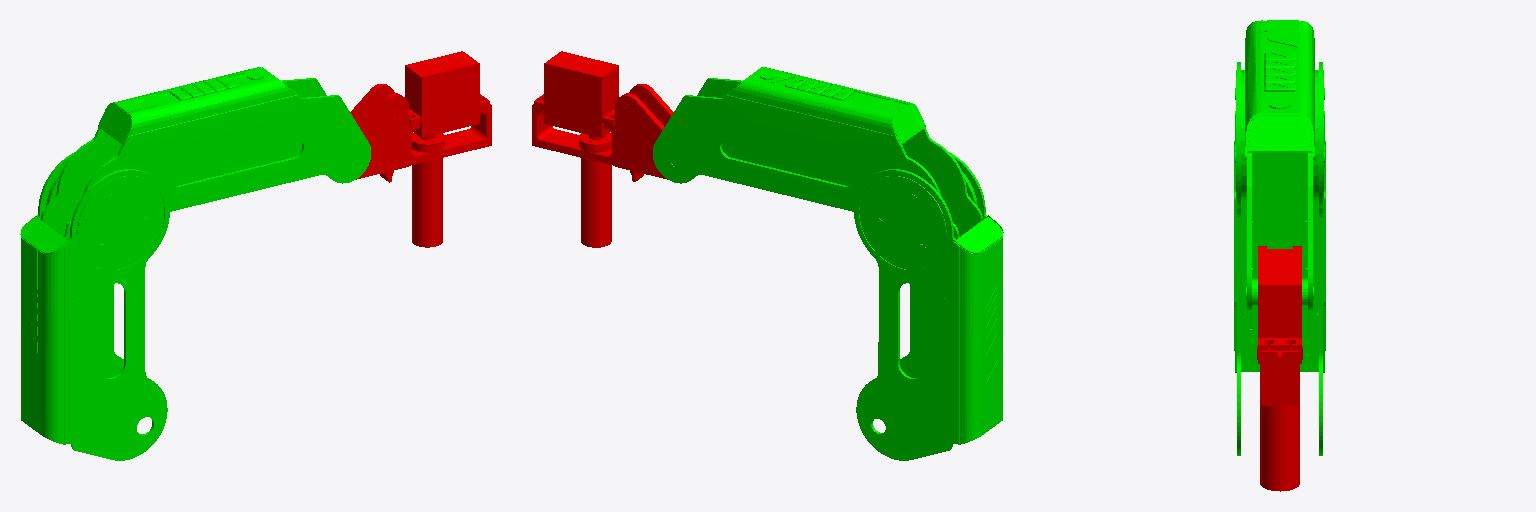
The robot description file, URDF, robot "magician":
<?xml version="1.0" ?>
<robot name="magician" xmlns:xi="http://www.w3.org/2001/XInclude">

  <material name="Red">
    <color rgba="1 0 0 1"/>
  </material>
  <material name="Green">
    <color rgba="0 1 0 1"/>
  </material>
  <material name="Blue">
    <color rgba="0 0 1 1"/>
  </material>
  <material name="Orange">
    <color rgba="1 0.6 0.0 1"/>
  </material>

  <link name="magician_root_link"/>
  <link name="magician_base_link">
    <visual>
      <origin rpy="0 0 0" xyz="0 0 0"/>
      <geometry>
        <mesh filename="package://dobot_kinematics/meshes/collision/core/magicianBase.dae"/>
      </geometry>
       <material name="Orange"/>
    </visual>
    <collision>
      <origin rpy="0 0 0" xyz="0 0 0"/>
      <geometry>
        <mesh filename="package://dobot_kinematics/meshes/collision/core/magicianBase.dae"/>
      </geometry>
      <material name="Orange"/>
    </collision>
  </link>
  <joint name="magician_joint_base" type="fixed">
    <parent link="magician_root_link"/>
    <child link="magician_base_link"/>
    <axis xyz="0 0 0"/>
    <limit effort="2000" lower="0" upper="0" velocity="1"/>
    <origin rpy="0 0 0" xyz="0 0 0"/>
    <dynamics damping="0.0" friction="0.0"/>
  </joint>
  <link name="magician_link_1">
    <visual>
      <origin rpy="0 0 0" xyz="0 0 0"/>
      <geometry>
        <mesh filename="package://dobot_kinematics/meshes/collision/core/magicianLink1.dae"/>
      </geometry>
             <material name="Green"/>
    </visual>
    <collision>
      <origin rpy="0 0 0" xyz="0 0 0"/>
      <geometry>
        <mesh filename="package://dobot_kinematics/meshes/collision/core/magicianLink1.dae"/>
      </geometry>
      <material name="Green"/>
    </collision>
  </link>
  <joint name="magician_joint_1" type="revolute">
    <parent link="magician_base_link"/>
    <child link="magician_link_1"/>
    <axis xyz="0 0 1"/>
    <limit effort="2000" lower="-2.1816615649929116" upper="2.1816615649929116" velocity="1"/>
    <origin rpy="0 0 0" xyz="0 0 0"/>
    <dynamics damping="0.0" friction="0.0"/>
  </joint>
  <link name="magician_link_2">
    <visual>
      <origin rpy="0 -0.3490658503988659 0" xyz="0 0 0"/>
      <geometry>
        <mesh filename="package://dobot_kinematics/meshes/collision/core/magicianLink2.dae"/>
      </geometry>
      <material name="Green"/>
    </visual>
    <collision>
      <origin rpy="0 -0.3490658503988659 0" xyz="0 0 0"/>
      <geometry>
        <mesh filename="package://dobot_kinematics/meshes/collision/core/magicianLink2.dae"/>
      </geometry>
      <material name="Green"/>
    </collision>
  </link>
  <joint name="magician_joint_2" type="revolute">
    <parent link="magician_link_1"/>
    <child link="magician_link_2"/>
    <axis xyz="0 1 0"/>
    <limit effort="2000" lower="-0.08726646259971647" upper="1.5707963267948966" velocity="1"/>
    <origin rpy="0 0.0 0" xyz="0 0 0.0"/>
    <dynamics damping="0.0" friction="0.0"/>
  </joint>
  <link name="magician_link_3">
    <visual>
      <origin rpy="0 -0.47123889803846897 0" xyz="0.01645236135969491 0 -0.13399373047157848"/>
      <geometry>
        <mesh filename="package://dobot_kinematics/meshes/collision/core/magicianLink3.dae"/>
      </geometry>
      <material name="Green"/>
    </visual>
    <collision>
      <origin rpy="0 -0.47123889803846897 0" xyz="0.01645236135969491 0 -0.13399373047157848"/>
      <geometry>
        <mesh filename="package://dobot_kinematics/meshes/collision/core/magicianLink3.dae"/>
      </geometry>
      <material name="Green"/>
    </collision>
  </link>
  <joint name="magician_joint_3" type="revolute">
    <parent link="magician_link_2"/>
    <child link="magician_link_3"/>
    <axis xyz="0 1 0"/>
    <limit effort="2000" lower="-0.2617993877991494" upper="1.2217304763960306" velocity="1"/>
    <origin rpy="0 0 0" xyz="0 0.0 0.135"/>
    <dynamics damping="0.0" friction="0.0"/>
  </joint>
  <joint name="magician_joint_mimic_1" type="revolute">
    <parent link="magician_link_3"/>
    <child link="magician_link_4"/>
    <axis xyz="0 1 0"/>
    <limit effort="2000" lower="-3.14159265359" upper="3.14159265359" velocity="1"/>
    <origin rpy="0 0 0" xyz="0.147 0 0"/>
    <dynamics damping="0.0" friction="0.0"/>
  </joint>
  <link name="magician_link_4">
    <visual>
      <origin rpy="0 0 0" xyz="-0.17715067840465534 0 -0.058595107267811"/>
      <geometry>
        <mesh filename="package://dobot_kinematics/meshes/collision/end_tools/suction_cup_collision_part1.dae"/>
      </geometry>
      <material name="Red"/>
    </visual>
    <collision>
      <origin rpy="0 0 0" xyz="-0.17715067840465534 0 -0.058595107267811"/>
      <geometry>
        <mesh filename="package://dobot_kinematics/meshes/collision/end_tools/suction_cup_collision_part1.dae"/>
      </geometry>
      <material name="Red"/>
    </collision>
  </link>
    <joint name="magician_joint_end_effector" type="fixed">
    <parent link="magician_link_4"/>
    <child link="end_effector_part"/>
    <origin rpy="0 0 0" xyz="0 0 0"/>
  </joint>
  <link name="end_effector_part">
    <visual>
      <origin rpy="0 0 0" xyz="-0.17715067840465534 0 -0.058595107267811"/>
      <geometry>
        <mesh filename="package://dobot_kinematics/meshes/collision/end_tools/suction_cup_collision_part2.dae"/>
      </geometry>
      <material name="Red"/>
    </visual>
    <collision>
      <origin rpy="0 0 0" xyz="-0.17715067840465534 0 -0.058595107267811"/>
      <geometry>
        <mesh filename="package://dobot_kinematics/meshes/collision/end_tools/suction_cup_collision_part2.dae"/>
      </geometry>
      <material name="Red"/>
    </collision>
  </link>
</robot>

--- Facts derived from the render (not from the file) ---
Views: 3 orthographic renders of the robot side by side, from view 1: azimuth 30°, elevation 25°; view 2: azimuth 150°, elevation 25°; view 3: azimuth 270°, elevation 25°.
Robot: magician — 7 links, 6 joints (4 revolute, 2 fixed); root link magician_root_link; default pose: every joint at zero.
Visible links, largest first — view 1: magician_link_2, magician_link_3, magician_link_4, end_effector_part; view 2: magician_link_2, magician_link_3, magician_link_4, end_effector_part; view 3: magician_link_2, magician_link_3, magician_link_4, end_effector_part.
Boxes of the visible links, <box> form: magician_link_2: <box>20,152,169,460</box>; magician_link_3: <box>41,67,370,238</box>; magician_link_4: <box>350,51,491,182</box>; end_effector_part: <box>412,158,442,247</box>; magician_link_2: <box>854,152,1003,460</box>; magician_link_3: <box>653,67,982,238</box>; magician_link_4: <box>532,51,673,181</box>; end_effector_part: <box>581,158,611,247</box>; magician_link_2: <box>1234,62,1325,455</box>; magician_link_3: <box>1245,20,1314,310</box>; magician_link_4: <box>1257,246,1302,405</box>; end_effector_part: <box>1260,406,1299,491</box>.
Bounding box of the posed robot: 0.3124 × 0.042 × 0.223 m (x, y, z).
Meshes: 6 distinct files referenced, 4 mesh visuals loaded (4 Collada DAE); not drawn: 2 (reference not matched to a file when rendering).